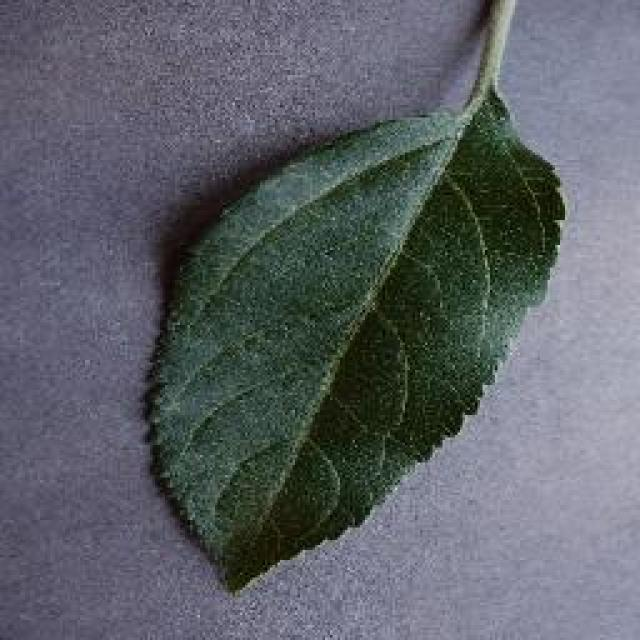apple healthy: (137, 0, 570, 592)
